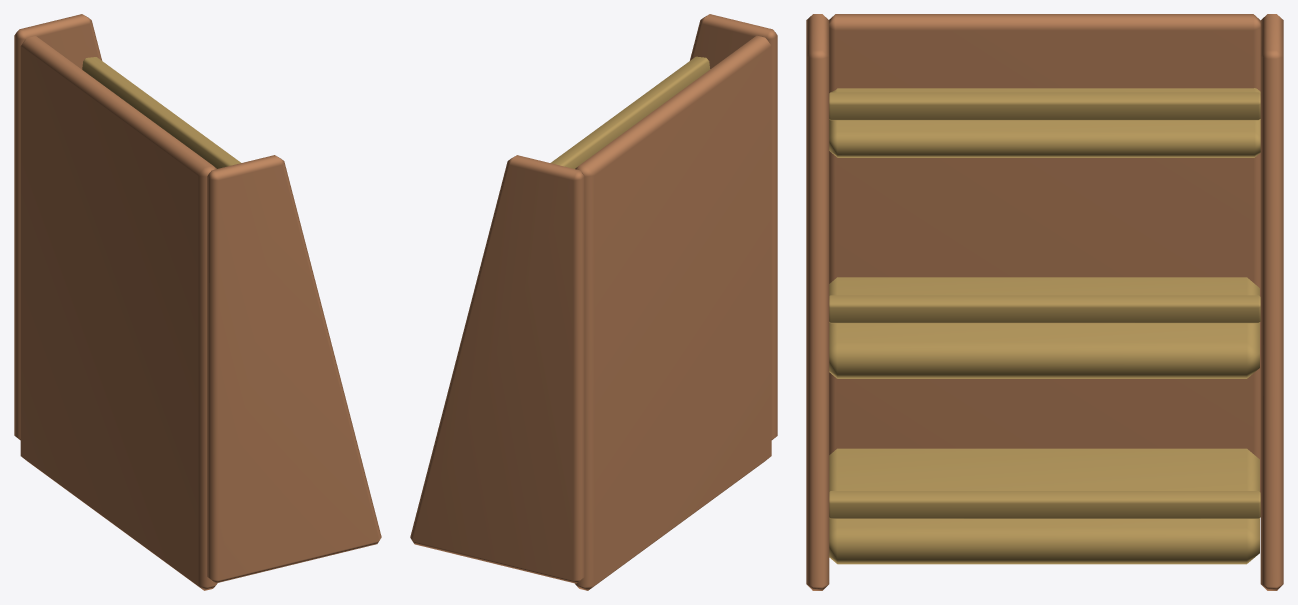
Rendered from mdl_rack2.fbx.
The picture shows the model from 3 angles, left to right: view 1: azimuth 30°, elevation 25°; view 2: azimuth 150°, elevation 25°; view 3: azimuth 270°, elevation 25°; orthographic projection. The views are drawn at different scales.
Visible parts, largest first — view 1: pCube78; view 2: pCube78; view 3: pCube78.
Part boxes in pixels (x1,y1,x2,y2): pCube78: (14, 14, 381, 590); pCube78: (410, 14, 777, 590); pCube78: (806, 14, 1283, 590).
Size of the model in its own units: 64.3 by 150 by 129.
